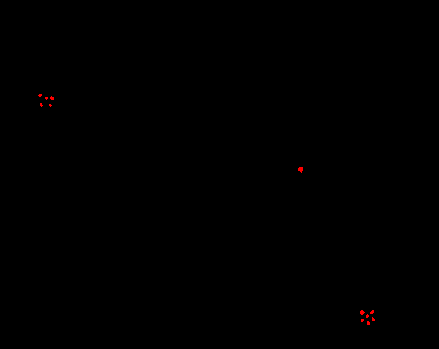Target: (298, 167, 303, 173), (360, 310, 365, 315), (50, 96, 54, 100), (370, 310, 374, 314), (38, 94, 42, 97), (40, 103, 43, 107), (366, 314, 369, 318), (372, 317, 375, 321), (367, 321, 370, 325), (45, 97, 48, 100), (49, 104, 52, 107), (361, 319, 364, 322)
